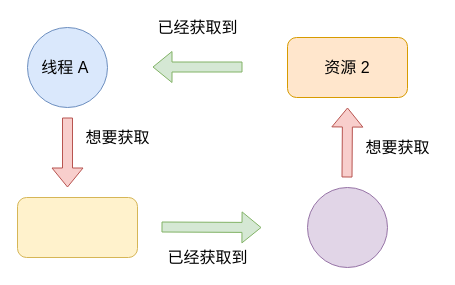
Some shapes in this 455 by 285 pixel diagram are drawn without their labels. Here are the shapes that lost their labels. From the top down, the box of each, then its label:
(16, 196, 138, 258): 资源 1
(306, 186, 388, 268): 线程 B
